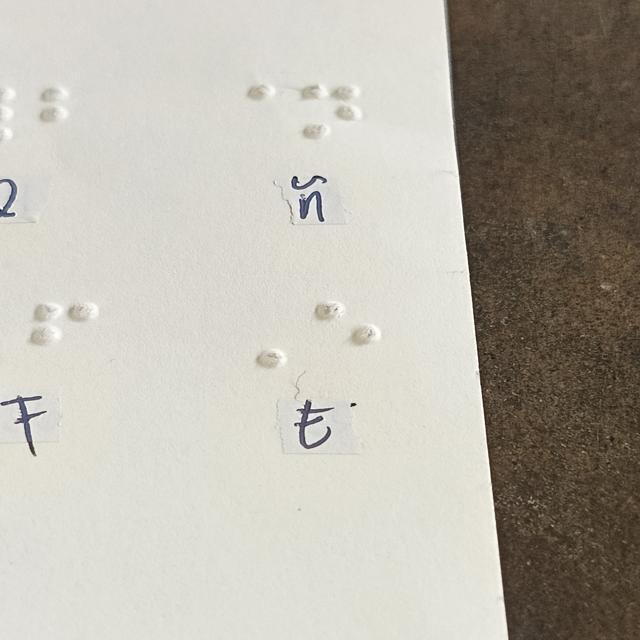capital_sign: (225, 299, 289, 371)
dot_4: (216, 83, 275, 141)
letter_E: (315, 299, 379, 371)
letter_f: (33, 302, 95, 366)
letter_n: (303, 84, 361, 142)
